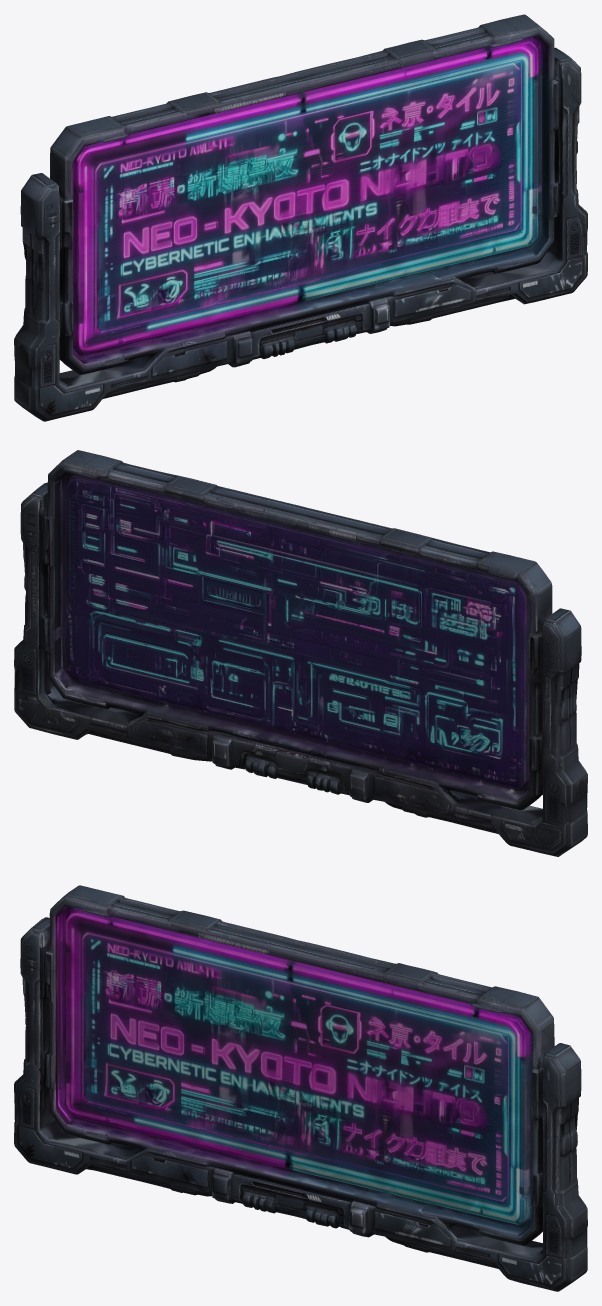
The model's file is cyberpunk_billboard.fbx.
3 views of the same model, one above another, from view 1: azimuth 30°, elevation 25°; view 2: azimuth 150°, elevation 25°; view 3: azimuth 330°, elevation 25° (orthographic).
Visible parts, largest first — view 1: mesh_node; view 2: mesh_node; view 3: mesh_node.
Part boxes in pixels (<box>): mesh_node: <box>14,14,587,421</box>; mesh_node: <box>14,450,587,856</box>; mesh_node: <box>14,885,587,1291</box>.
Bounding box in the file's own units: 1.98 × 0.9383 × 0.1593.
